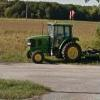Tractor: (22, 17, 91, 73)
